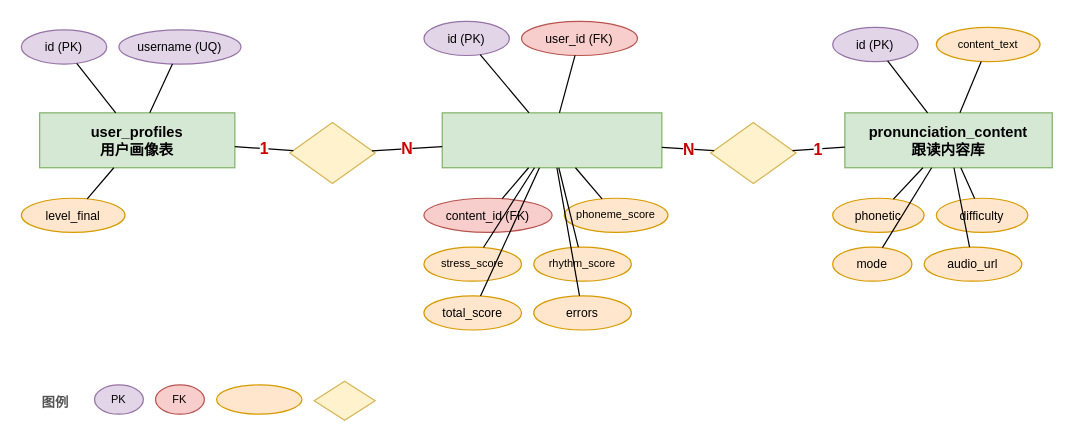
The diagram is 1074 pixels wide and 442 high, and some of its shapes have lost their labels. The shapes that lost their labels are listed below. From the top down, each one's centre as x and y in pixels, then its label:
(332,152): 评测
(551,140): pronunciation_records 发音评测记录
(752,152): 内容
(258,399): 普通属性
(344,400): 关系
